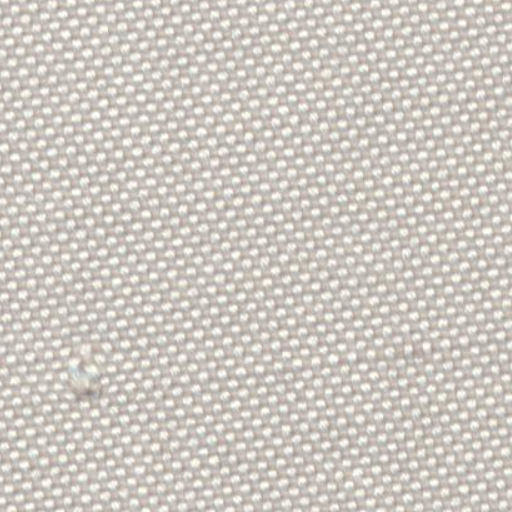PoDong: (52, 338, 128, 414)
